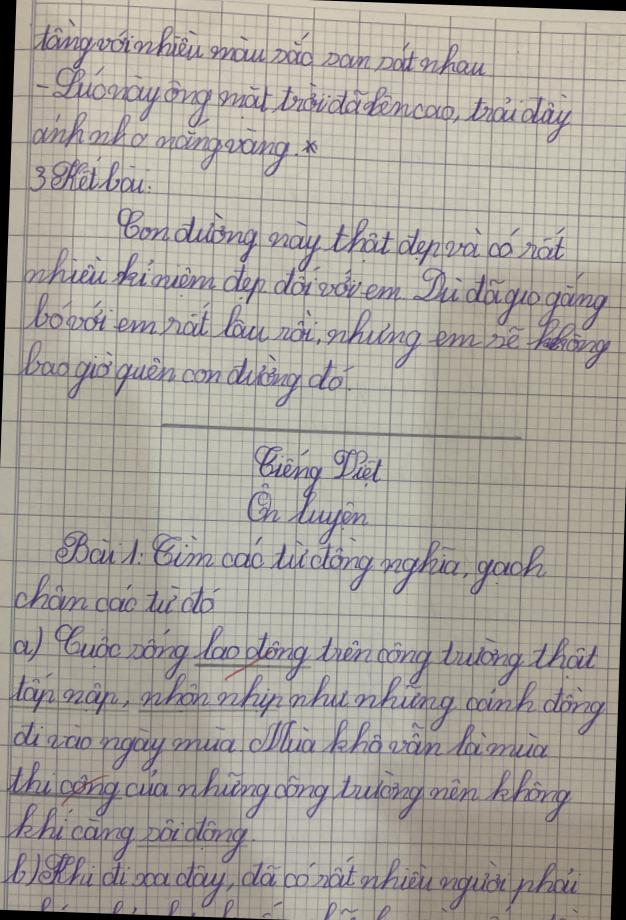text: (18, 288, 614, 380), (22, 243, 612, 331), (3, 746, 574, 836), (33, 57, 576, 146), (5, 660, 608, 740), (10, 616, 601, 696), (1, 839, 582, 920), (10, 704, 552, 790), (51, 522, 550, 602), (111, 206, 568, 283), (27, 13, 490, 85), (20, 336, 358, 414), (29, 104, 320, 180), (4, 886, 583, 920), (3, 797, 251, 869), (11, 570, 224, 620), (244, 480, 372, 548), (250, 440, 386, 502), (26, 150, 154, 199)
